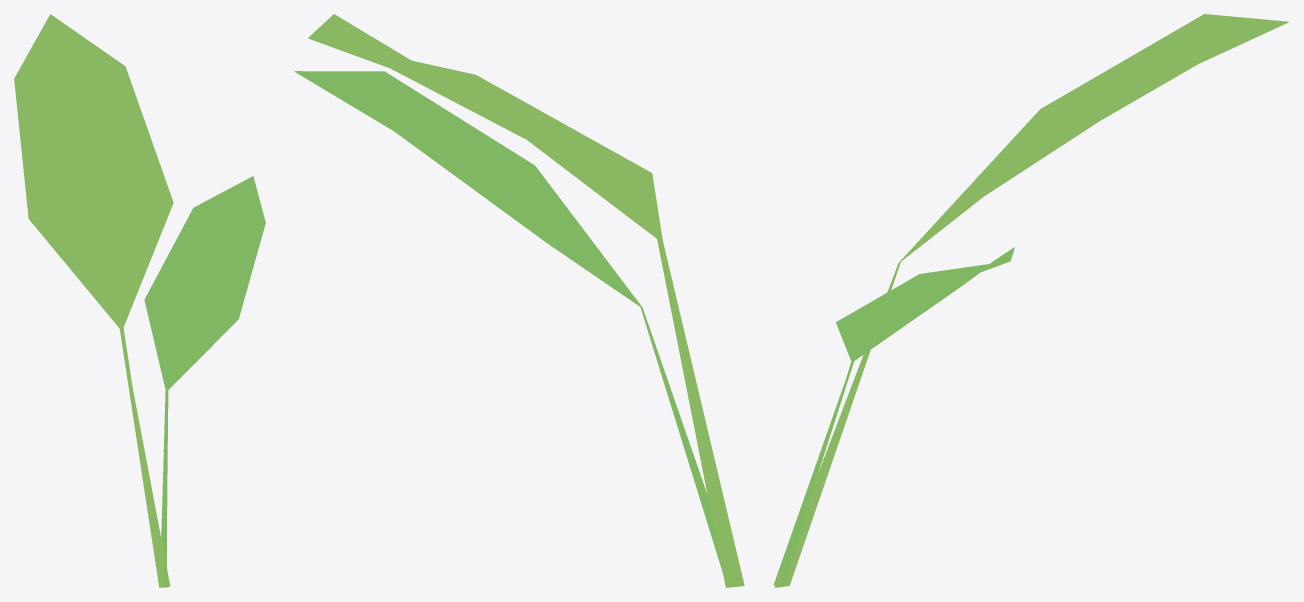
File: Plant_j_TwoS_07.fbx
3 views of the same model, side by side, from view 1: azimuth 30°, elevation 25°; view 2: azimuth 150°, elevation 25°; view 3: azimuth 270°, elevation 25° (orthographic). The views are drawn at different scales.
Visible parts, largest first — view 1: Plant_j_TwoS_07; view 2: Plant_j_TwoS_07; view 3: Plant_j_TwoS_07.
Boxes of the visible parts, x1,y1,x2,y2 form: Plant_j_TwoS_07: (14,14,265,587); Plant_j_TwoS_07: (294,14,744,587); Plant_j_TwoS_07: (773,14,1288,587).
Bounding box in the file's own units: 0.1402 × 0.2664 × 0.2049.
